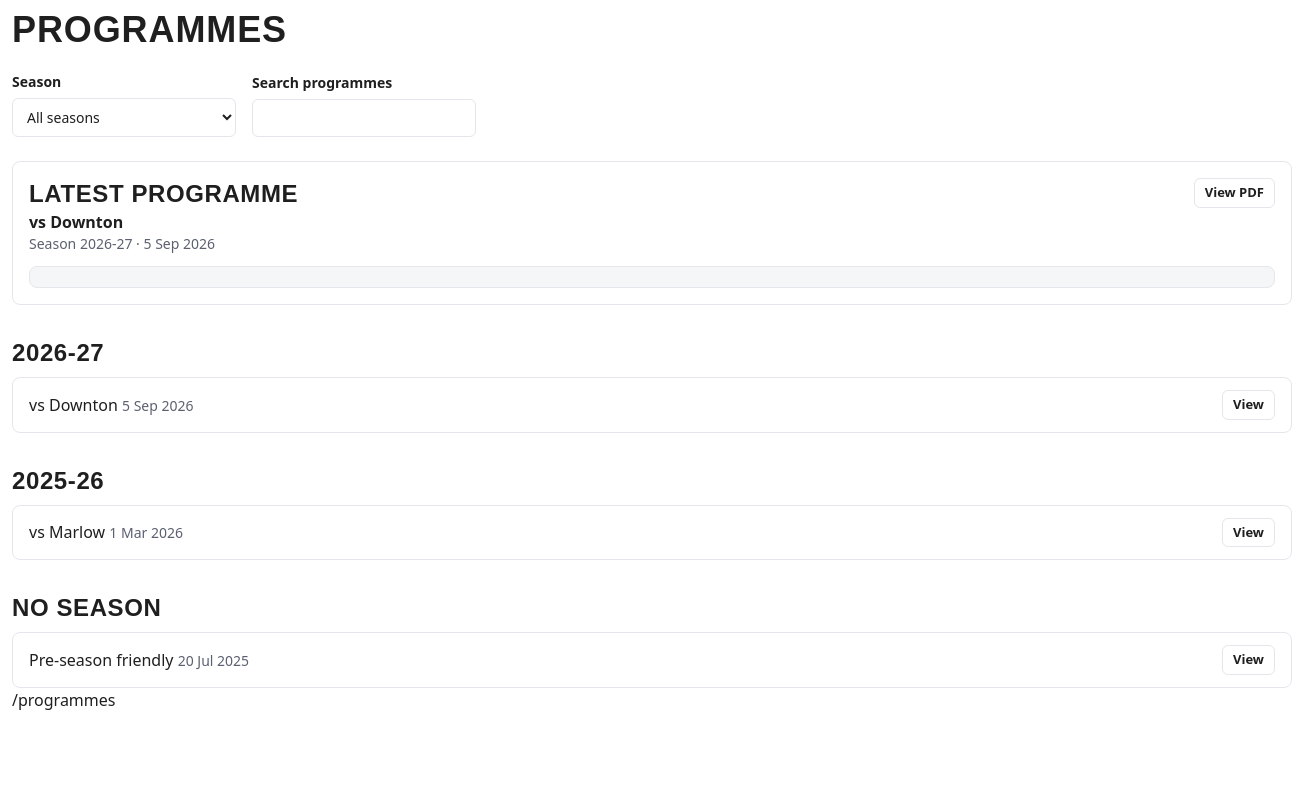
Test: ProgrammesPage › filters by season through the address
The width and height of the screenshot is (1292, 812).
Select "2026-27" in the dropdown labelled "Season". click: [124, 118]
box: [12,98,236,137]
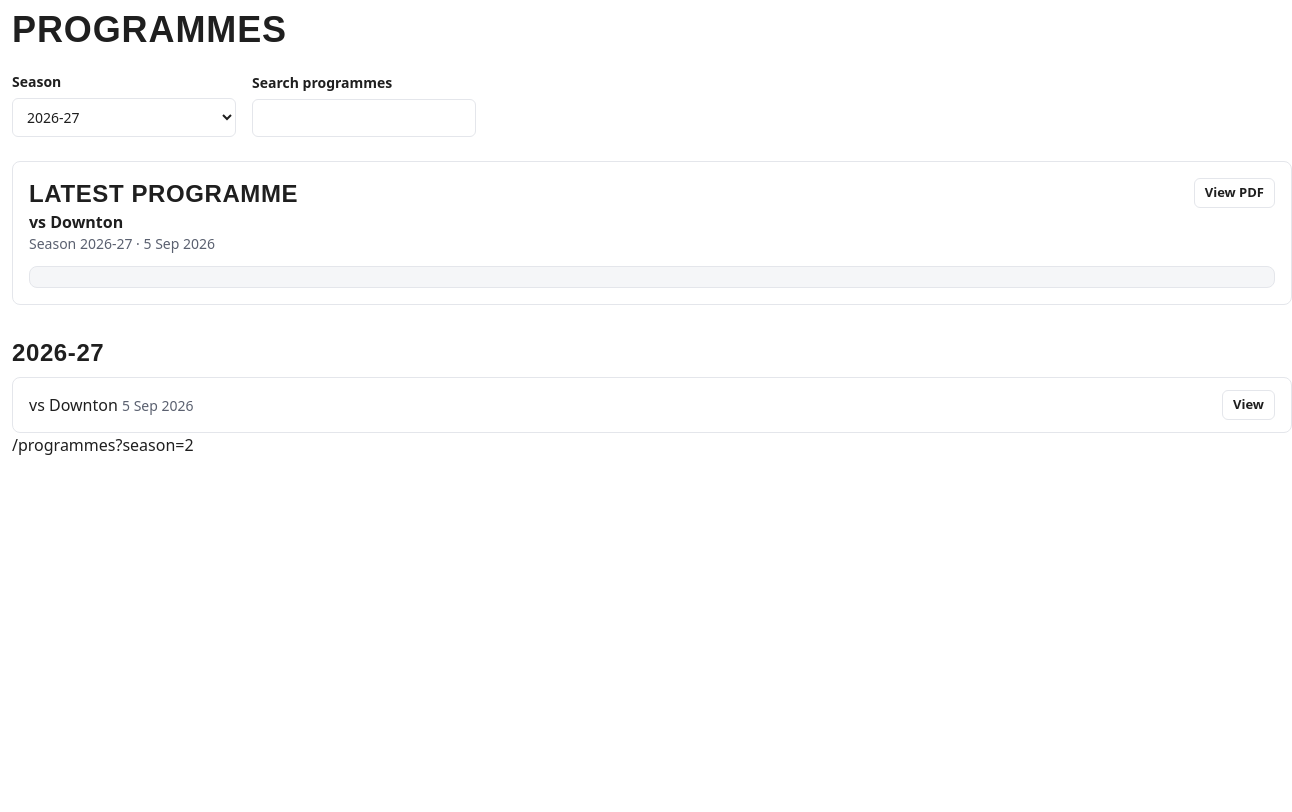
Expected: the 2nd text "vs Downton" is shown, [29,394,118,416]
Now the text with test id "location" reads "/programmes?season=2", box [12,434,194,456]
Now the text "vs Marlow" is gone
Select "All seasons" in the dropdown labelled "Season". click: [124, 118]
box: [12,98,236,137]
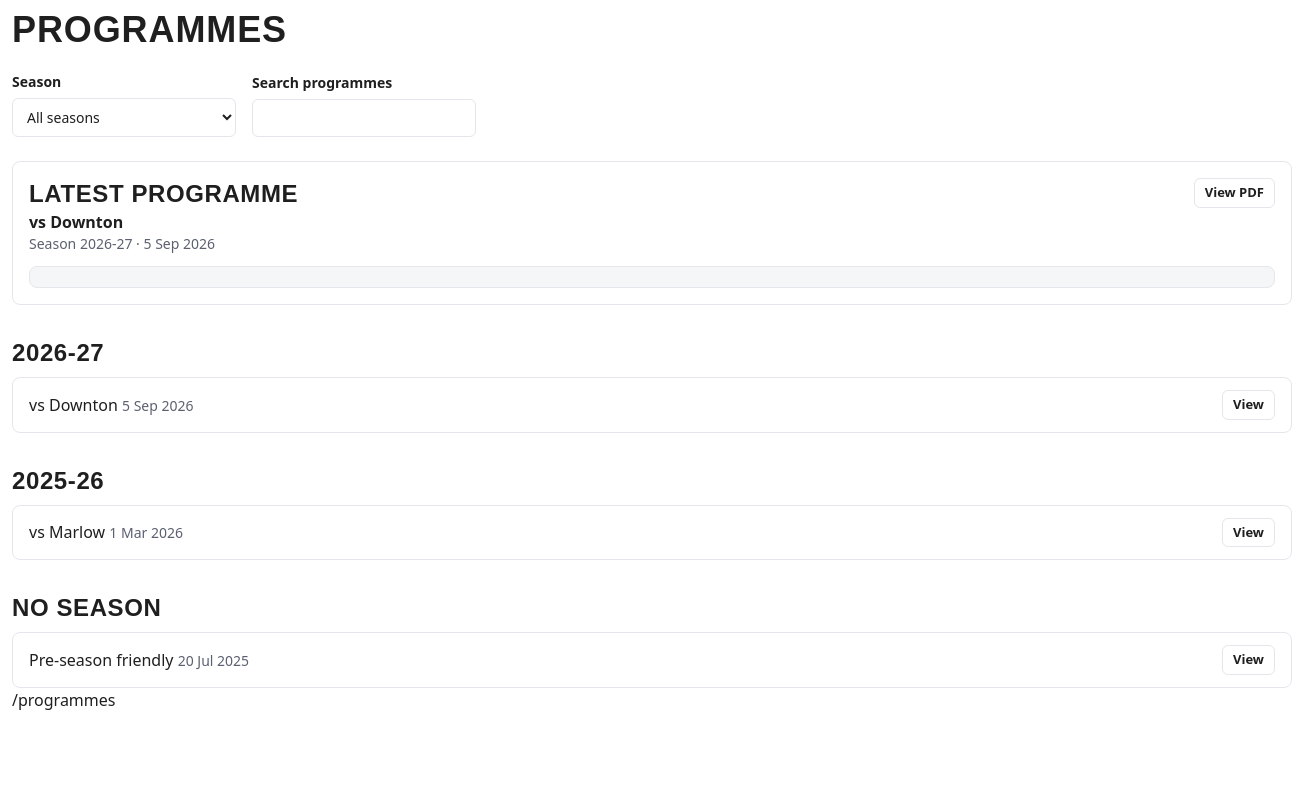
Now the text with test id "location" reads "/programmes", box [12,688,116,710]
